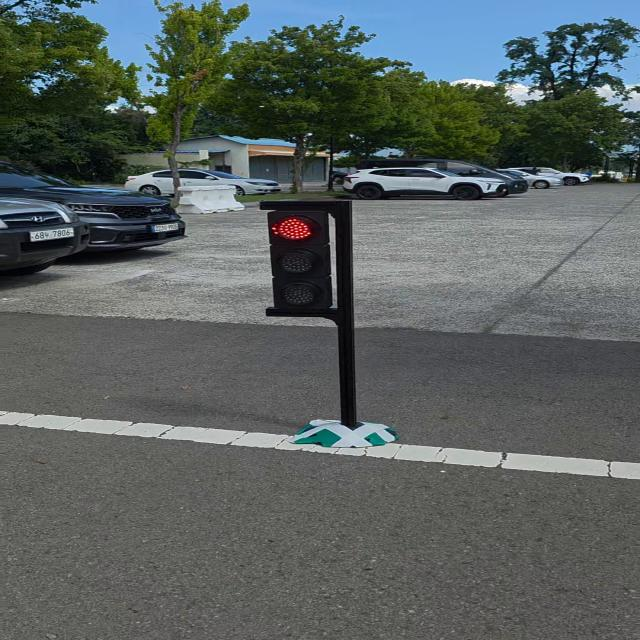red: (262, 203, 339, 316)
